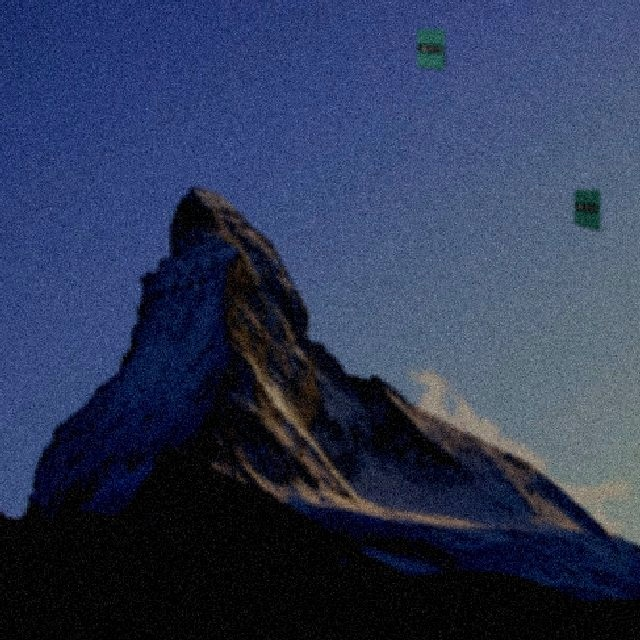ONE_WAY_ left: (574, 201, 596, 212), (417, 43, 440, 52)
